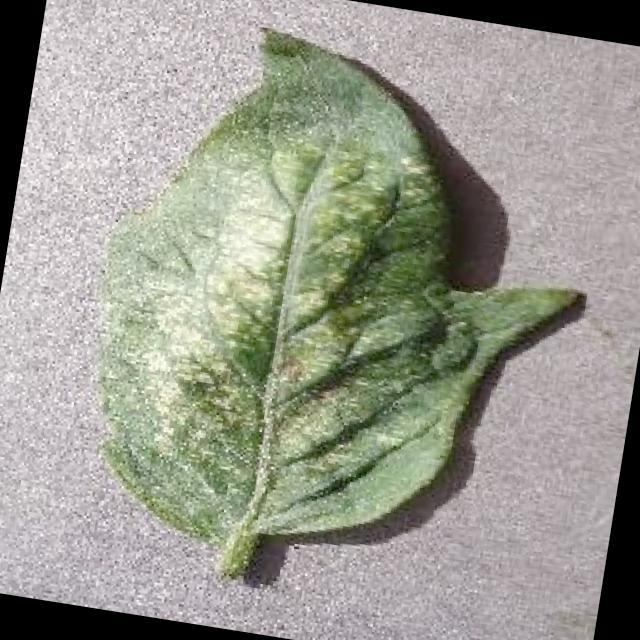Tomato spider mites leaf: (64, 8, 618, 596)
